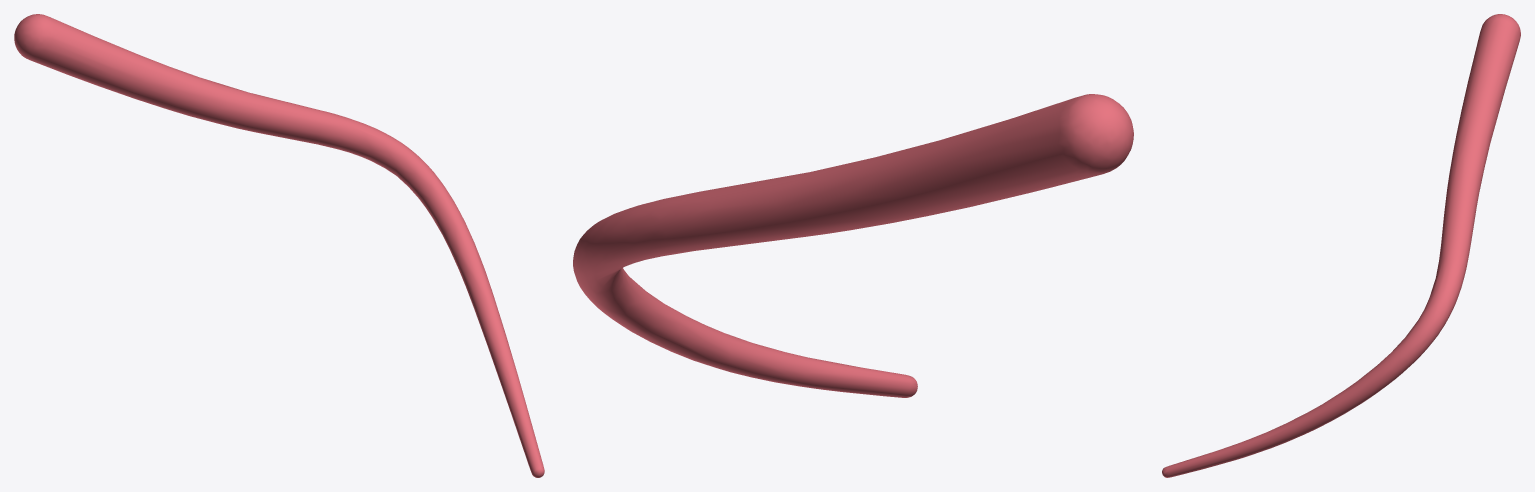
File: fma22589_fj2080.glb
The picture shows the model from 3 angles, left to right: view 1: azimuth 30°, elevation 25°; view 2: azimuth 150°, elevation 25°; view 3: azimuth 270°, elevation 25°; orthographic projection. The views are drawn at different scales.
Visible parts, largest first — view 1: FMA22589_FJ2080; view 2: FMA22589_FJ2080; view 3: FMA22589_FJ2080.
Part boxes in pixels (x1,y1,x2,y2): FMA22589_FJ2080: (14,14,544,477); FMA22589_FJ2080: (573,94,1133,397); FMA22589_FJ2080: (1162,14,1520,477).
Bounding box in the file's own units: 0.0412 × 0.0406 × 0.0394.
